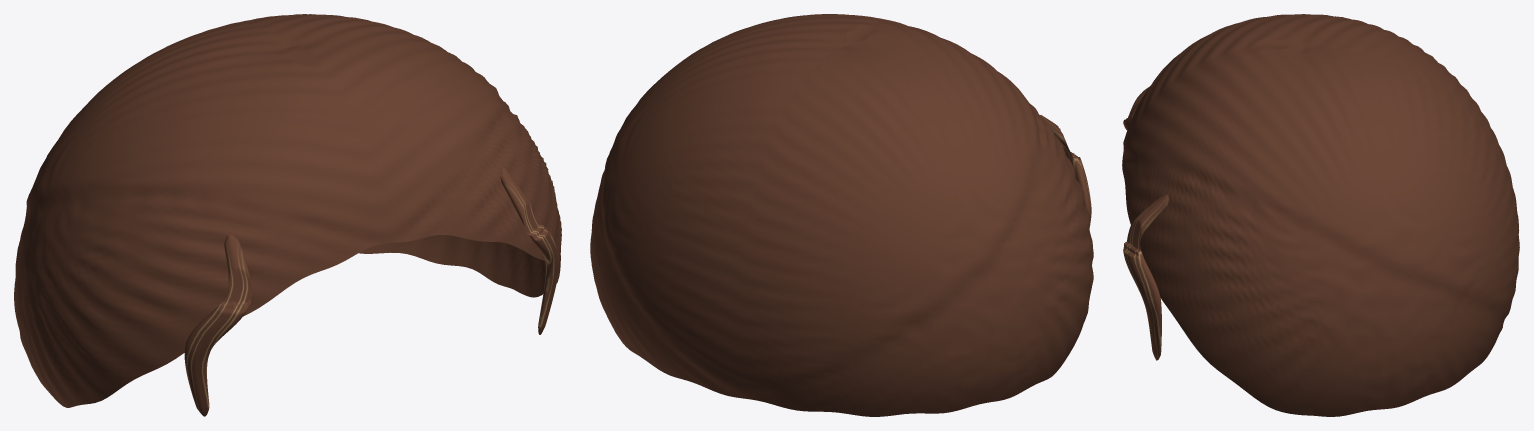
Rendered from Highlights-b977d45a968c252-hair.glb.
3 renders of one model, left to right at view 1: azimuth 30°, elevation 25°; view 2: azimuth 150°, elevation 25°; view 3: azimuth 270°, elevation 25°, orthographic. The views are drawn at different scales.
Parts seen in each view (by area): view 1: 226 hair / Hair / chestnut226.002; view 2: 226 hair / Hair / chestnut226.002; view 3: 226 hair / Hair / chestnut226.002.
Boxes of the visible parts, box(x1,y1,x2,y2) form: 226 hair / Hair / chestnut226.002: box(14, 14, 561, 416); 226 hair / Hair / chestnut226.002: box(590, 14, 1093, 416); 226 hair / Hair / chestnut226.002: box(1122, 14, 1519, 416).
Size of the model in its own units: 0.9981 by 0.5981 by 0.7846.
Materials: 1 (1 with a texture image).
